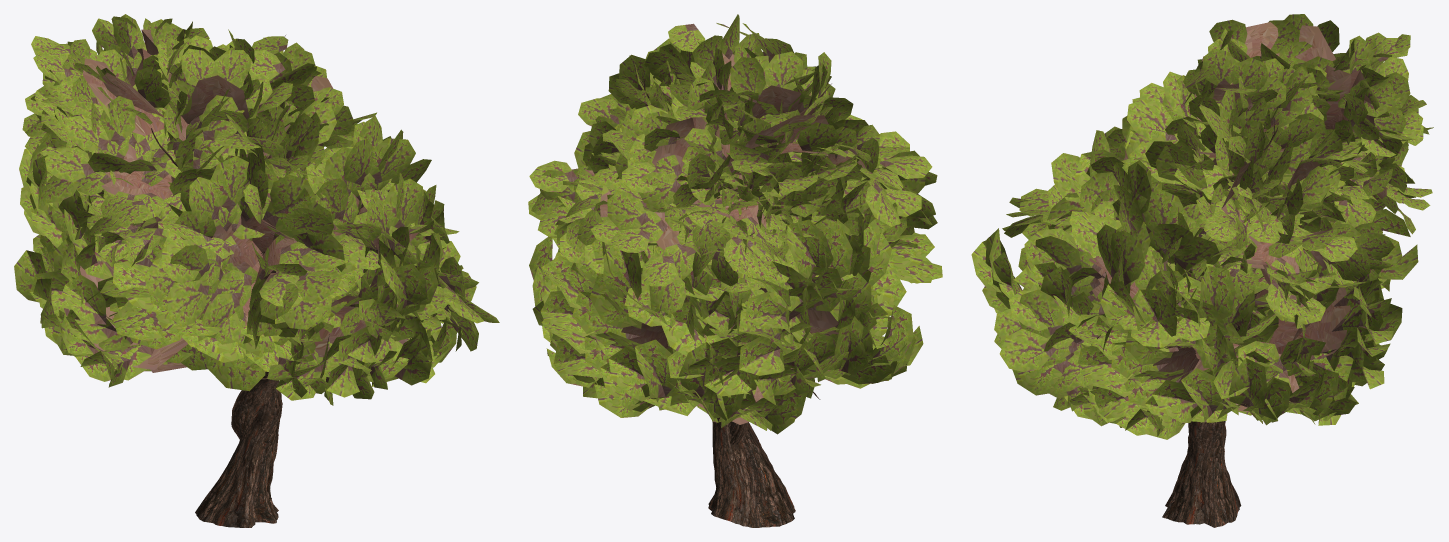
Rendered from SM_Zelkova_2.fbx.
3 views of the same model, side by side, from view 1: azimuth 30°, elevation 25°; view 2: azimuth 150°, elevation 25°; view 3: azimuth 270°, elevation 25° (orthographic). The views are drawn at different scales.
Visible parts, largest first — view 1: SM_Zelkova_2; view 2: SM_Zelkova_2; view 3: SM_Zelkova_2.
Boxes of the visible parts, bbox=[...] form: SM_Zelkova_2: bbox=[14, 14, 499, 527]; SM_Zelkova_2: bbox=[528, 14, 942, 527]; SM_Zelkova_2: bbox=[971, 14, 1433, 527].
Bounding box in the file's own units: 797 × 878 × 975.
2 materials, 2 textured.
